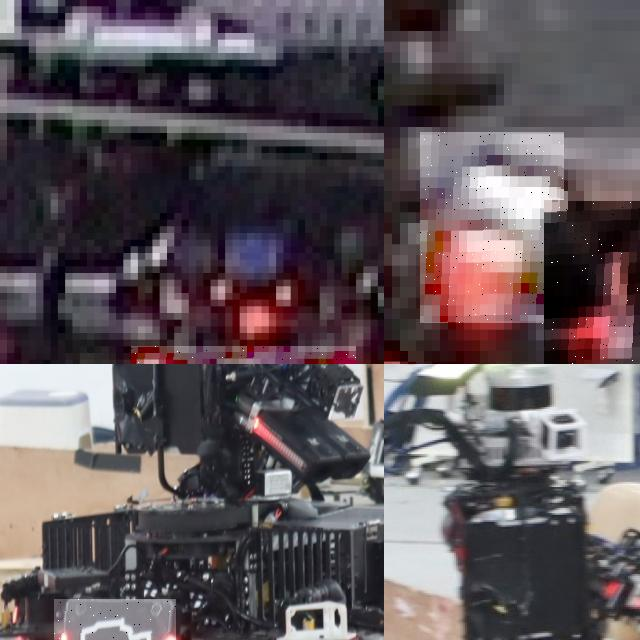R1: (130, 346, 356, 364)
R4: (420, 133, 564, 324), (544, 201, 640, 364)
Rs: (54, 599, 175, 640)
